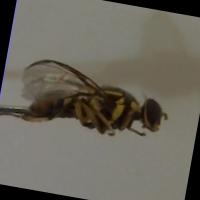Oriental-fruit-fly: (6, 43, 184, 164)
